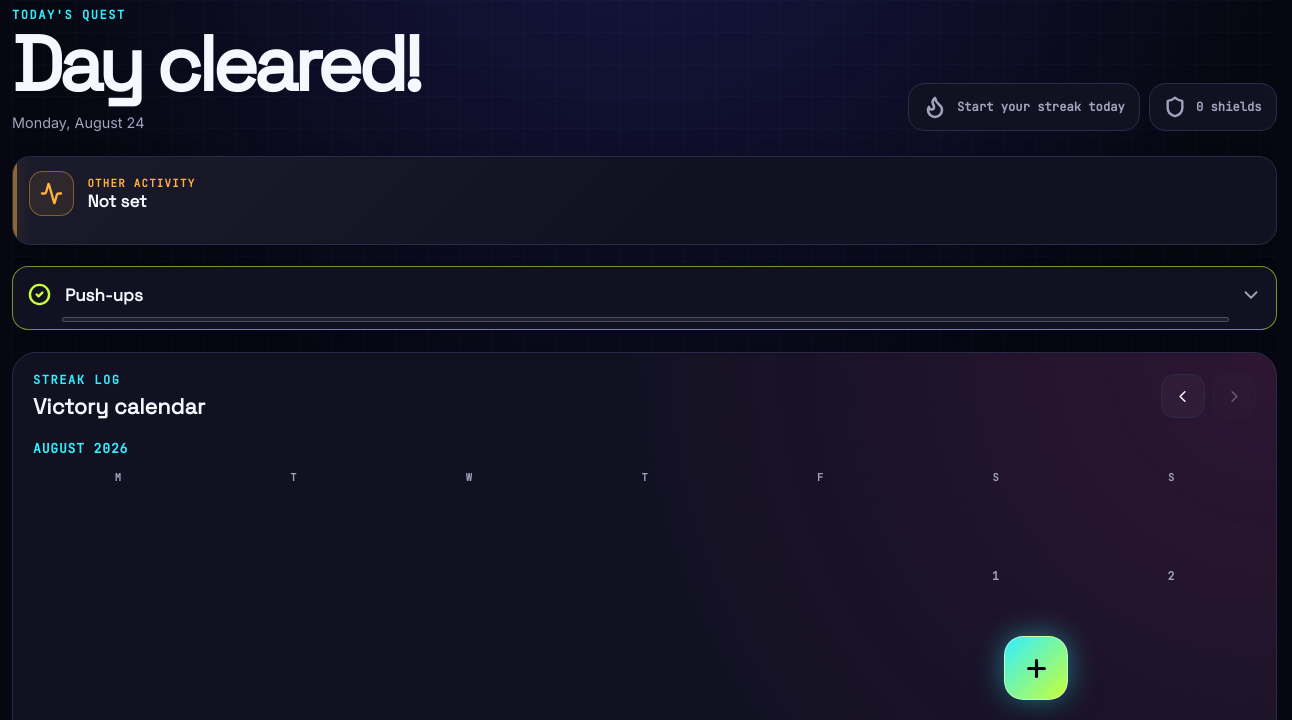
today’s arcade training dashboard › reloads authoritative level-up progress after add and undo
The image size is (1292, 720).
Click the button with test id "exercise-toggle-push-ups".
click(104, 295)  # box [12,266,1277,330]
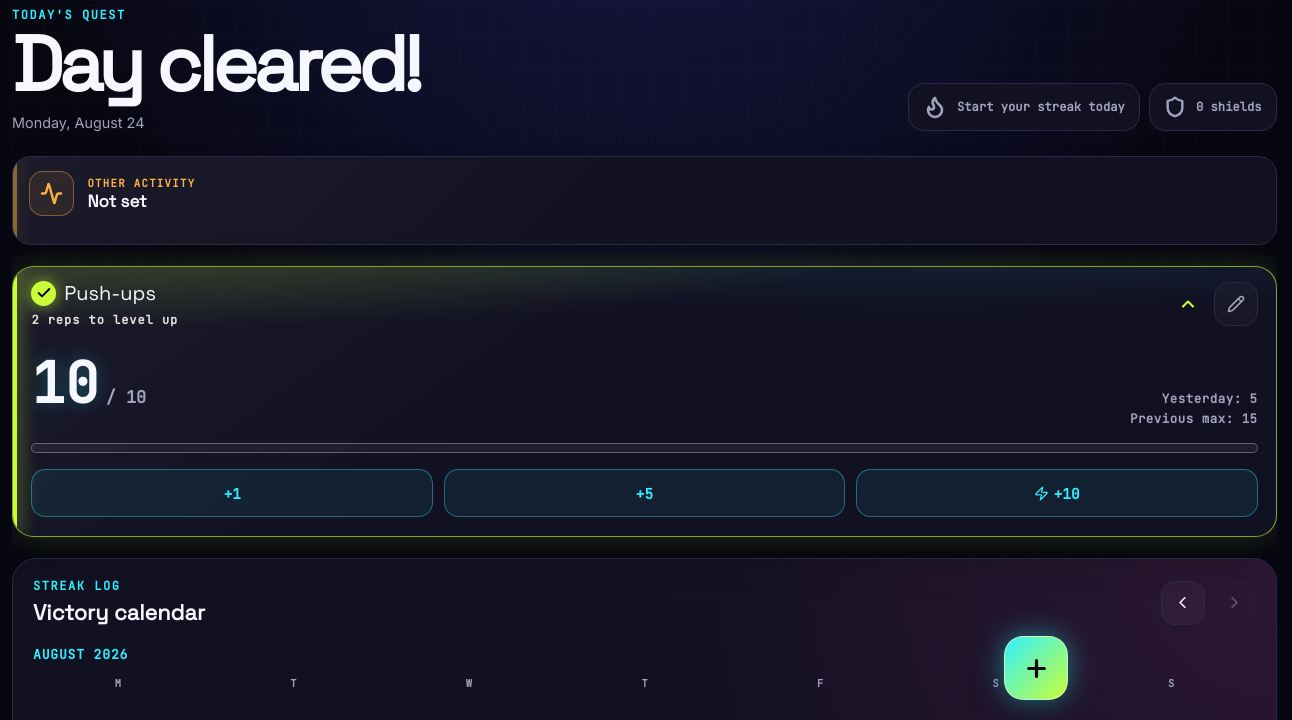
Click the button named "Add 1 rep to Push-ups".
click(232, 493)  # box [31,469,433,517]
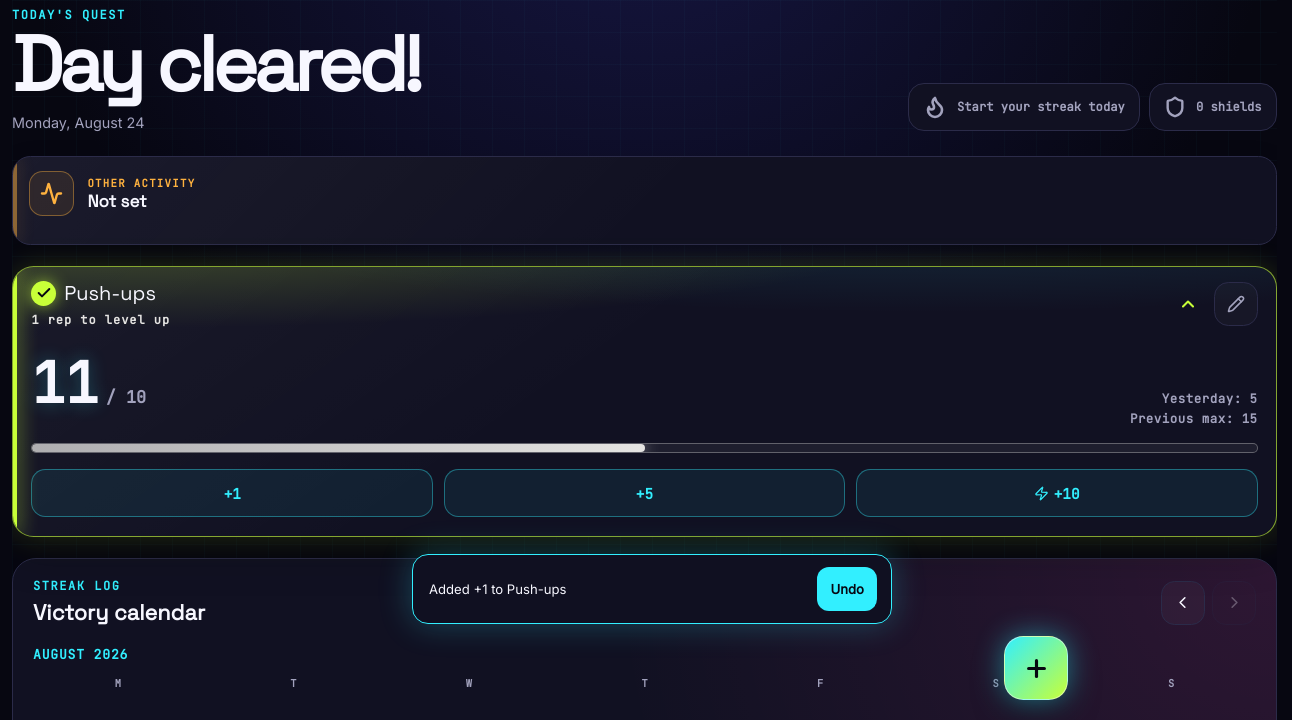
expect the text "1 rep to level up" is shown: met, box [31,312,170,328]
Click the button "Undo".
click(847, 589)  # box [817,567,877,611]
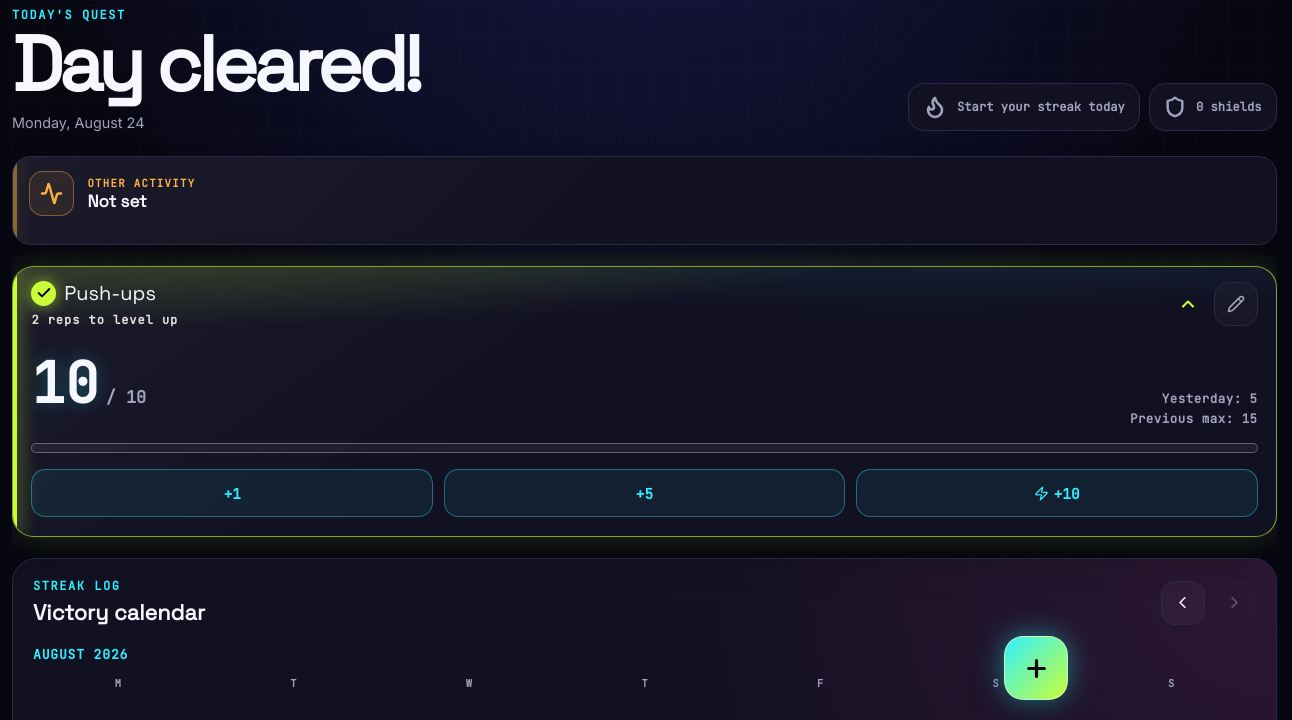
expect the text "2 reps to level up" is shown: met, box [31,312,178,328]
